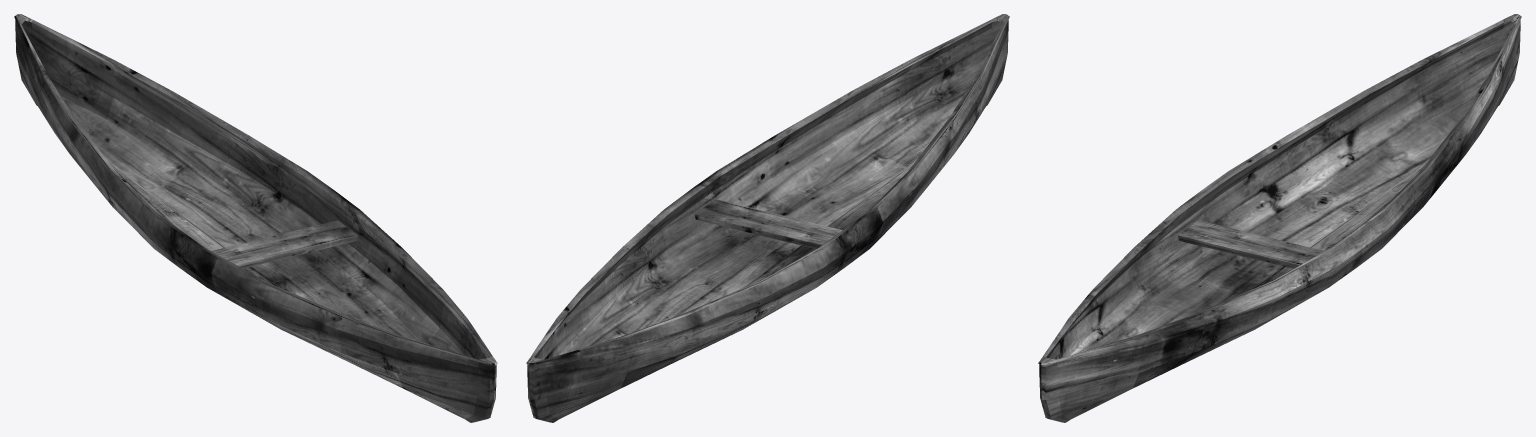
The model's file is bote.obj.
3 renders of one model, left to right at view 1: azimuth 30°, elevation 25°; view 2: azimuth 150°, elevation 25°; view 3: azimuth 330°, elevation 25°, orthographic.
Parts seen in each view (by area): view 1: boat:Mesh; view 2: boat:Mesh; view 3: boat:Mesh.
Part boxes in pixels (box(x1,y1,x2,y2)): boat:Mesh: box(14, 14, 497, 422); boat:Mesh: box(526, 14, 1009, 422); boat:Mesh: box(1038, 14, 1521, 422).
Size of the model in its own units: 1.61 by 0.7922 by 8.12.
1 material, 1 textured.
